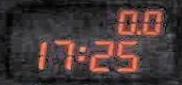-: (134, 29, 140, 35)
0: (115, 9, 136, 34), (141, 9, 161, 34)
1: (36, 40, 46, 69)
2: (88, 40, 112, 71)
5: (114, 40, 137, 71)
7: (54, 39, 73, 69)
X: (76, 45, 85, 60)
